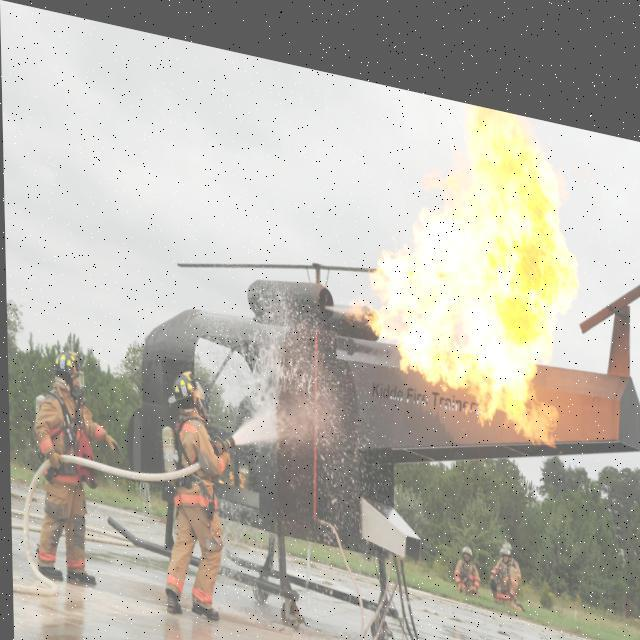Fire: (359, 68, 580, 425)
